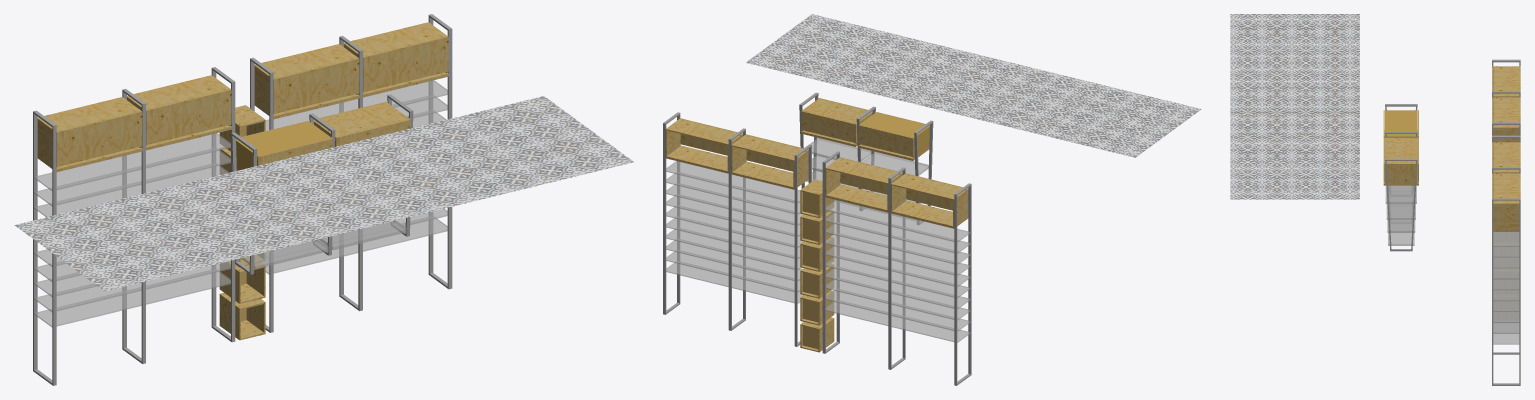
Rendered from store.fbx.
3 renders of one model, left to right at view 1: azimuth 30°, elevation 25°; view 2: azimuth 150°, elevation 25°; view 3: azimuth 270°, elevation 25°, orthographic. The views are drawn at different scales.
Parts seen in each view (by area): view 1: polySurface17, model_3:Mesh, polySurface39; view 2: polySurface17, model_3:Mesh, polySurface39; view 3: model_3:Mesh, polySurface17, polySurface39.
Part boxes in pixels (<box>): polySurface17: <box>33,14,452,385</box>; model_3:Mesh: <box>14,96,634,291</box>; polySurface39: <box>231,94,413,274</box>; polySurface17: <box>663,112,971,385</box>; model_3:Mesh: <box>745,14,1201,157</box>; polySurface39: <box>799,92,933,224</box>; model_3:Mesh: <box>1230,14,1359,199</box>; polySurface17: <box>1492,59,1520,385</box>; polySurface39: <box>1383,104,1418,251</box>.
Size of the model in its own units: 6080 by 2850 by 4025.
Materials: 4 (2 with a texture image).
